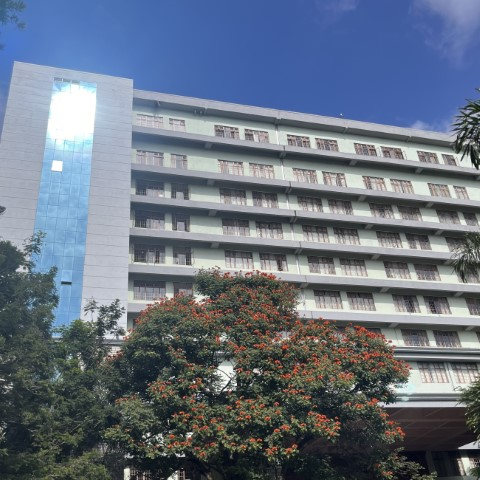Central Block: (3, 53, 480, 403)
